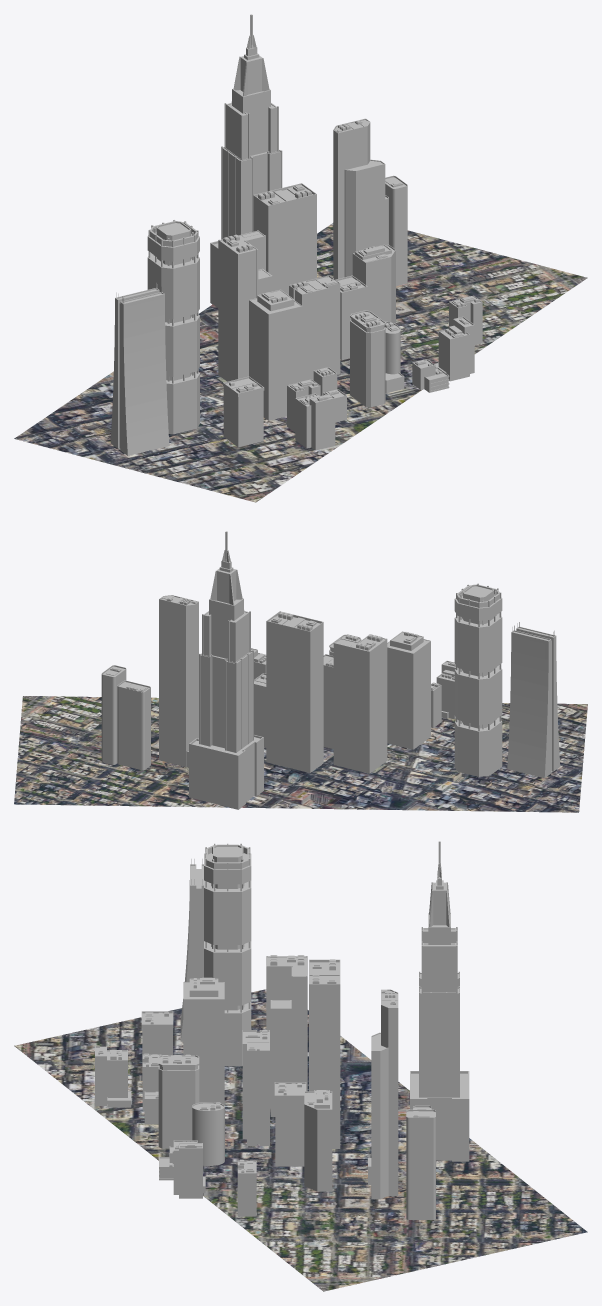
The picture shows the model from 3 angles, top to bottom: view 1: azimuth 30°, elevation 25°; view 2: azimuth 150°, elevation 25°; view 3: azimuth 270°, elevation 25°; orthographic projection. The views are drawn at different scales.
Visible parts, largest first — view 1: ground_2, object 11, object 15, object 13, object 5, object 4, object 6, object 2, object 7, object 19, object 20, object 10 (+9 smaller); view 2: ground_2, object 11, object 13, object 2, object 4, object 15, object 5, object 6, object 8, object 7, object 17, object 1 (+1 smaller); view 3: ground_2, object 11, object 13, object 5, object 4, object 2, object 6, object 8, object 19, object 7, object 10, object 1 (+7 smaller).
Boxes of the visible parts, x1,y1,x2,y2 form: ground_2: (14, 223, 587, 502); object 11: (210, 14, 282, 307); object 15: (110, 283, 169, 455); object 13: (147, 220, 199, 434); object 5: (333, 118, 385, 279); object 4: (218, 230, 272, 381); object 6: (249, 289, 302, 420); object 2: (253, 183, 316, 295); object 7: (289, 275, 340, 380); object 19: (350, 310, 385, 407); object 20: (223, 376, 264, 447); object 10: (352, 244, 395, 323); ground_2: (14, 696, 587, 812); object 11: (189, 531, 263, 809); object 13: (454, 583, 502, 776); object 2: (266, 611, 323, 772); object 4: (333, 634, 387, 773); object 15: (507, 622, 560, 778); object 5: (159, 595, 198, 767); object 6: (387, 631, 430, 749); object 8: (101, 665, 150, 770); object 7: (323, 654, 333, 748); object 17: (436, 660, 455, 719); object 1: (254, 673, 266, 747); ground_2: (14, 989, 587, 1291); object 11: (410, 841, 469, 1161); object 13: (204, 843, 251, 1065); object 5: (368, 989, 398, 1199); object 4: (266, 955, 307, 1116); object 2: (309, 959, 340, 1148); object 6: (183, 977, 224, 1105); object 8: (406, 1105, 435, 1219); object 19: (158, 1055, 199, 1148); object 7: (242, 1030, 269, 1145); object 10: (304, 1090, 332, 1191); object 1: (274, 1082, 306, 1166).
Bounding box in the file's own units: 5.74 × 2.81 × 4.56.
